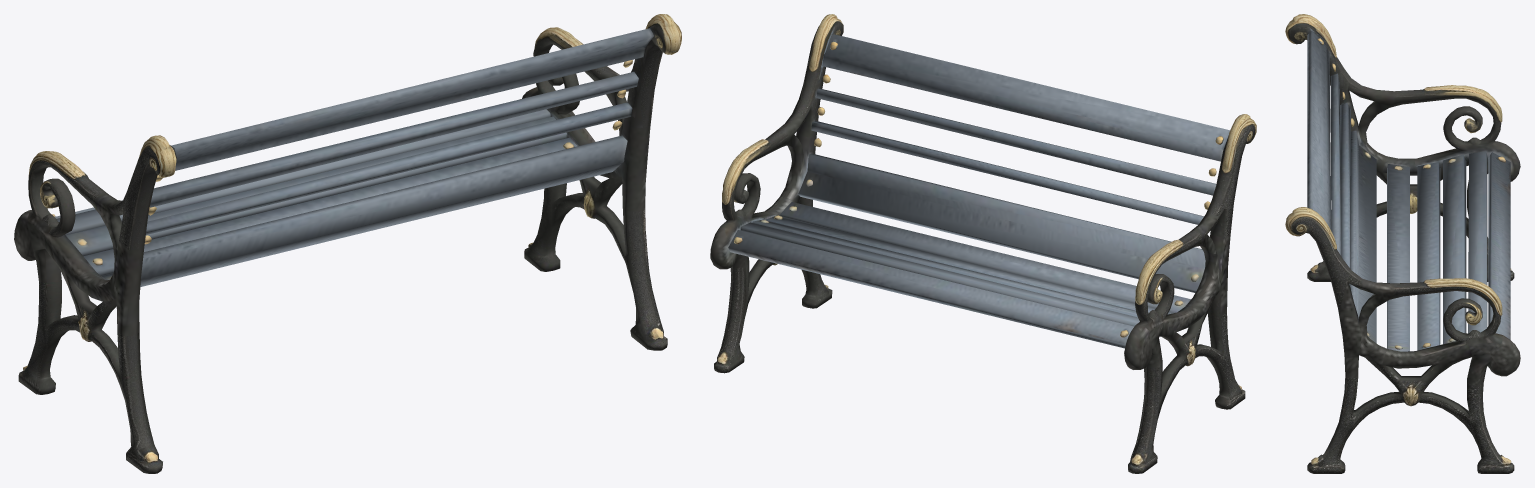
File: tripo_convert_c2c2230e-0627-436d-9a50-7dd939f0e4c3.fbx
3 views of the same model, side by side, from view 1: azimuth 30°, elevation 25°; view 2: azimuth 150°, elevation 25°; view 3: azimuth 270°, elevation 25° (orthographic). The views are drawn at different scales.
Parts seen in each view (by area): view 1: tripo_node_c2c2230e; view 2: tripo_node_c2c2230e; view 3: tripo_node_c2c2230e.
Boxes of the visible parts, x1,y1,x2,y2 form: tripo_node_c2c2230e: (14, 14, 681, 473); tripo_node_c2c2230e: (710, 14, 1256, 473); tripo_node_c2c2230e: (1285, 14, 1520, 473).
Bounding box in the file's own units: 0.998 × 0.6152 × 0.498.
1 material, 1 textured.
